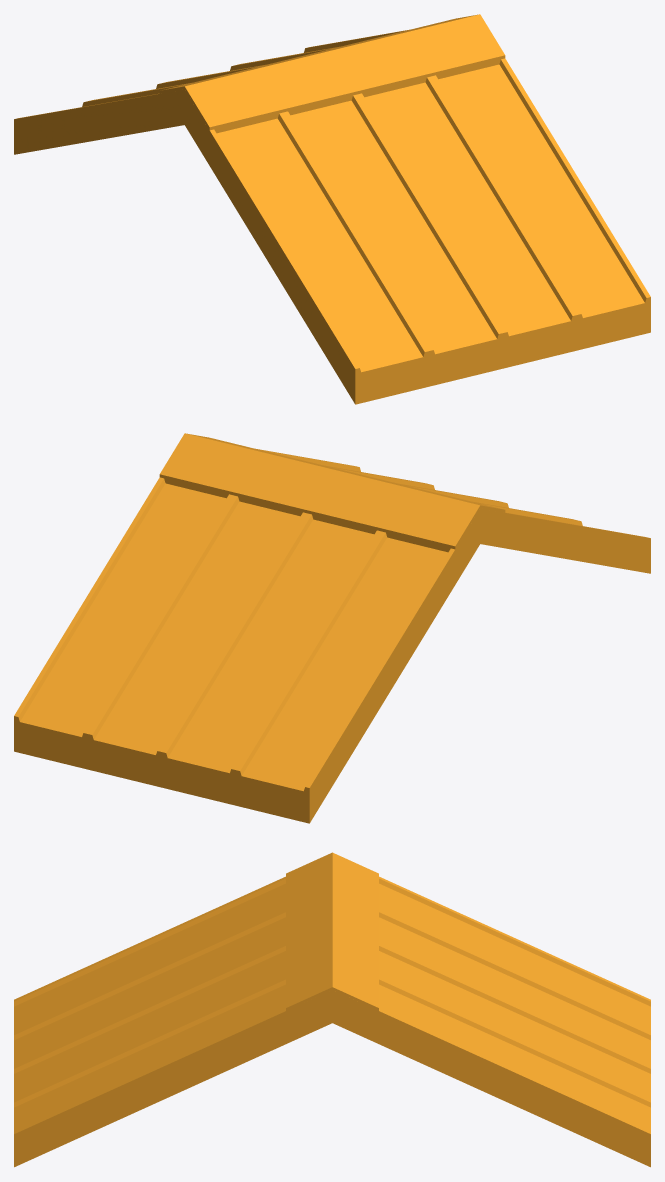
The model's file is SM_Roof_Metal_Moderate_2x2m_Center.fbx.
3 views of the same model, one above another, from view 1: azimuth 30°, elevation 25°; view 2: azimuth 150°, elevation 25°; view 3: azimuth 270°, elevation 25° (orthographic). The views are drawn at different scales.
Visible parts, largest first — view 1: roof-metal-moderate-2x2m-center; view 2: roof-metal-moderate-2x2m-center; view 3: roof-metal-moderate-2x2m-center.
Part boxes in pixels (left/top/right/bottom): roof-metal-moderate-2x2m-center: left=14, top=14, right=650, bottom=404; roof-metal-moderate-2x2m-center: left=14, top=433, right=650, bottom=823; roof-metal-moderate-2x2m-center: left=14, top=852, right=650, bottom=1167.
Bounding box in the file's own units: 2 × 1.25 × 4.
